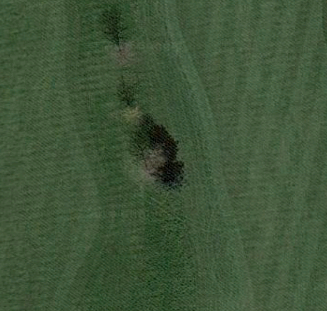tree: (147, 150, 195, 198), (108, 36, 147, 76), (117, 92, 149, 128)
